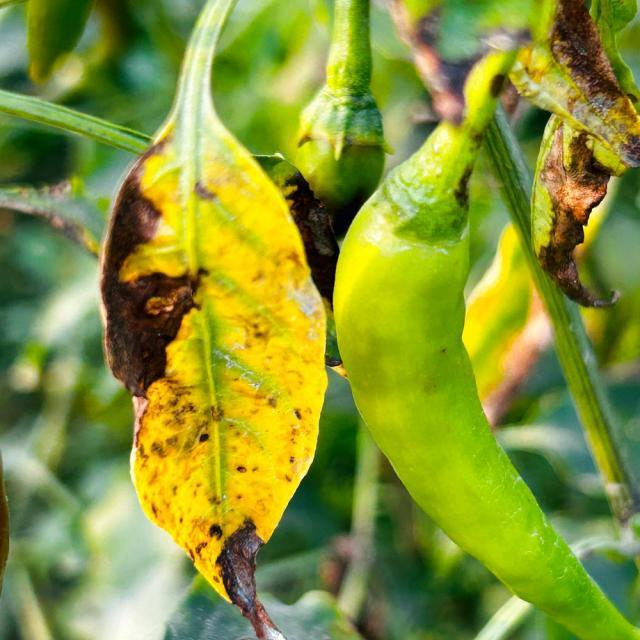Bercak Daun Serkospora: (97, 1, 329, 636), (525, 60, 640, 319)
Buah Cabai Sehat: (330, 158, 640, 640)
